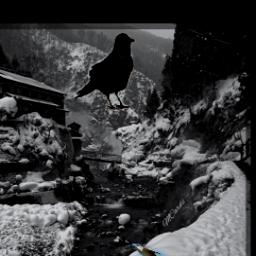Crow: (72, 32, 136, 111)
Cuckoo: (133, 244, 176, 256)
